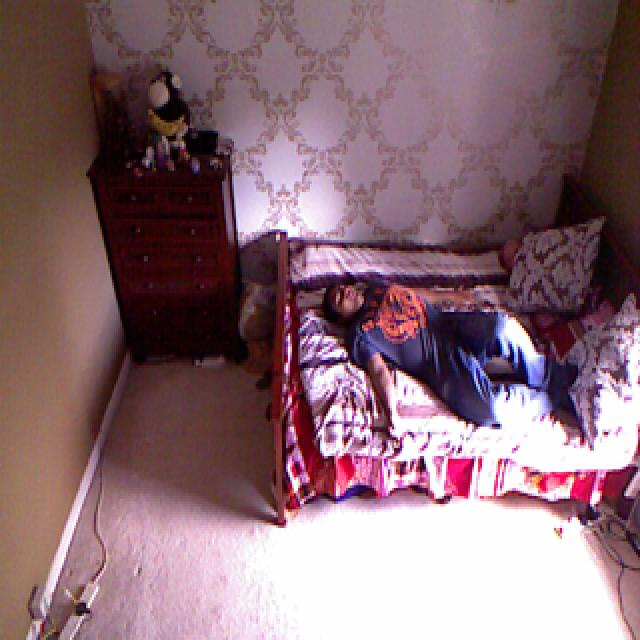lying: (317, 278, 575, 440)
